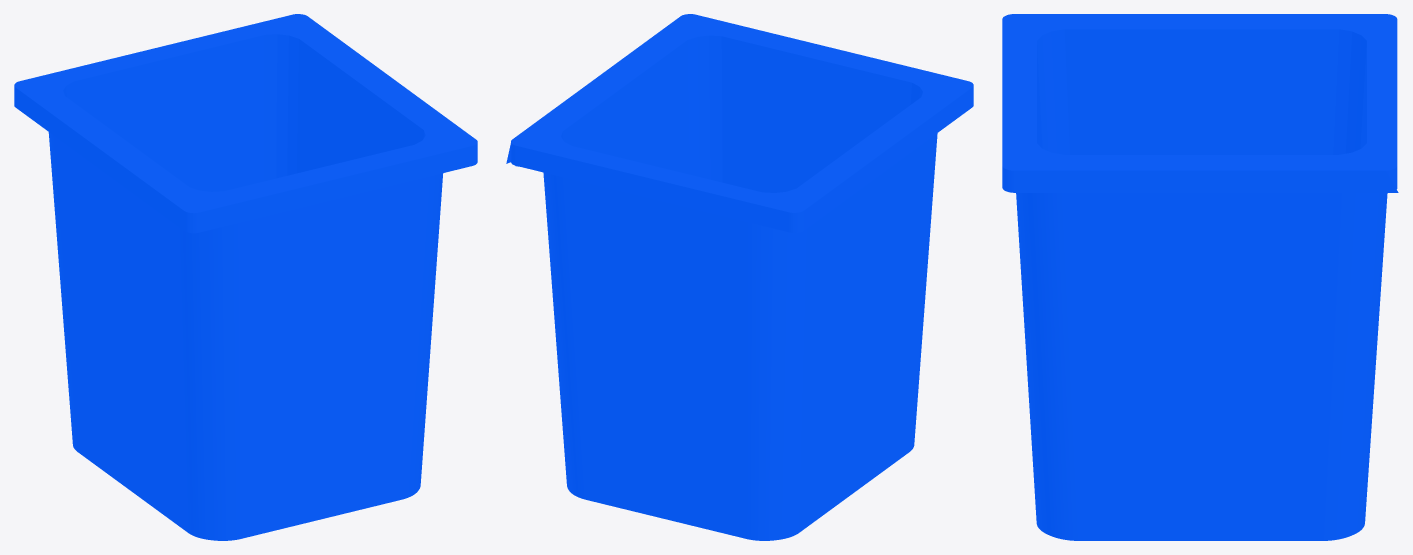
File: toilet trash_prefab.FBX
3 renders of one model, left to right at view 1: azimuth 30°, elevation 25°; view 2: azimuth 150°, elevation 25°; view 3: azimuth 270°, elevation 25°, orthographic. The views are drawn at different scales.
Parts seen in each view (by area): view 1: Box001; view 2: Box001; view 3: Box001.
Part boxes in pixels (left/top/right/bottom): Box001: left=14, top=14, right=477, bottom=540; Box001: left=506, top=14, right=973, bottom=540; Box001: left=1002, top=14, right=1398, bottom=540.
Size of the model in its own units: 102 by 117 by 109.
